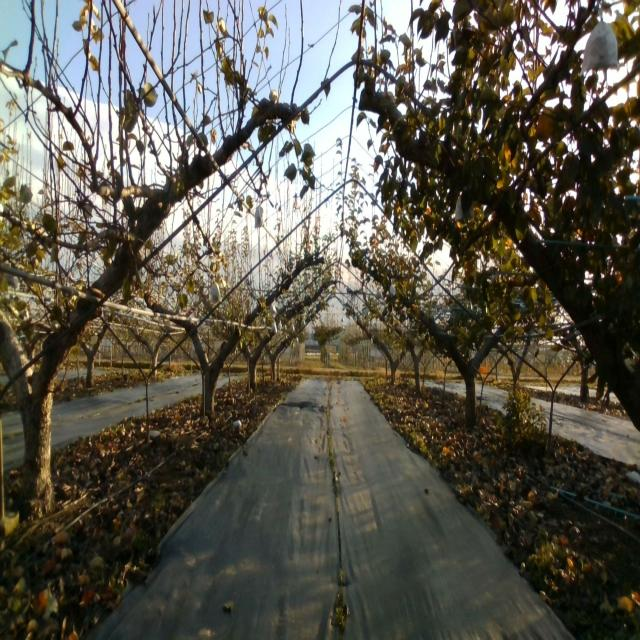pearbags: (579, 6, 620, 76), (208, 277, 220, 302)
